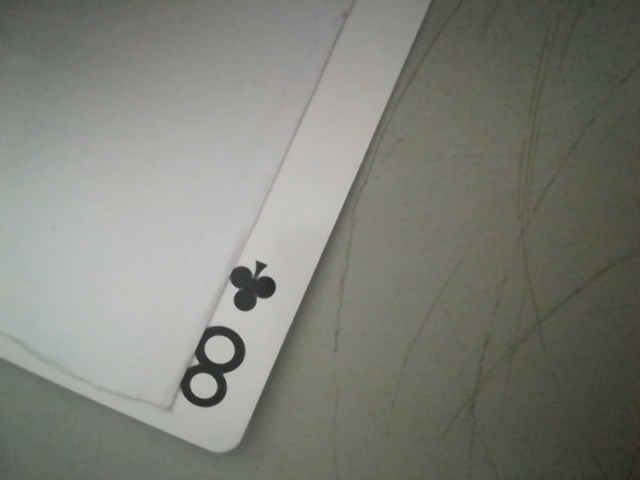mh 8: (161, 252, 287, 423)
